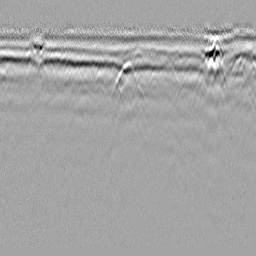cavity: (110, 55, 144, 95)
